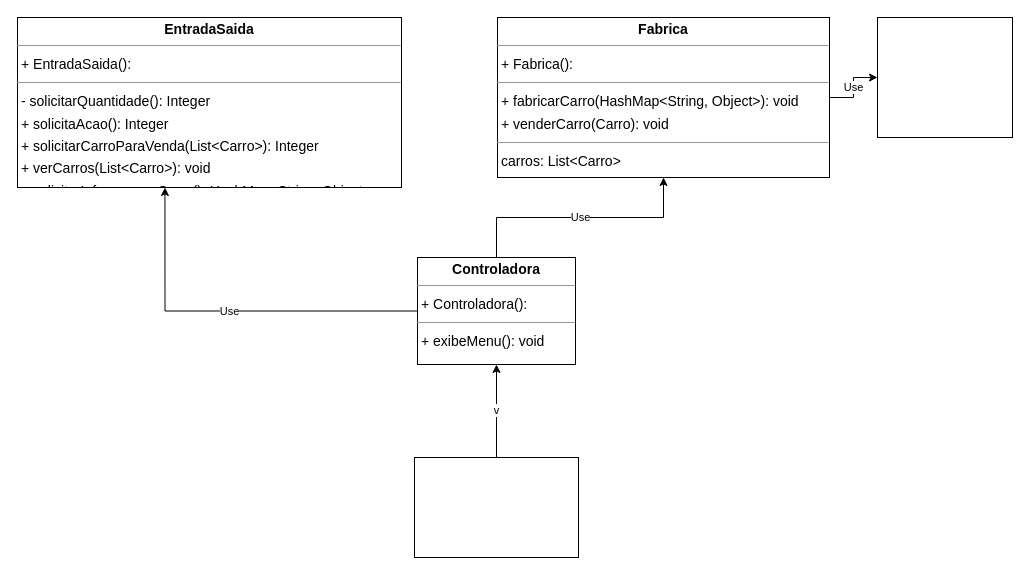
Some shapes in this 1030 by 575 pixel diagram are drawn without their labels. Here are the shapes that lost their labels. From the top down, the box of each, then its label:
(876, 16, 1012, 138): Carro + Carro(): cor: String modelo: String
(414, 456, 578, 558): Principal + Principal(): + main(String[]): void
